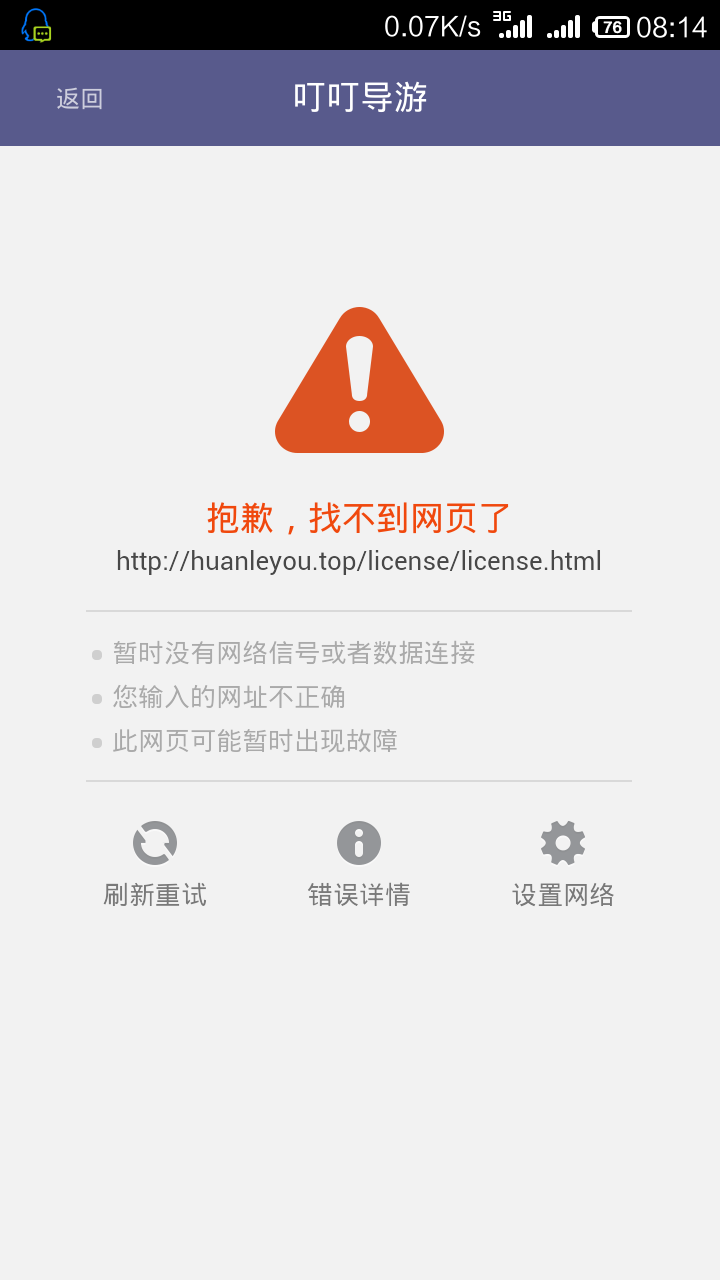imgbutton: (528, 810, 595, 875), (322, 817, 399, 872), (121, 807, 186, 872)
imgview: (195, 296, 528, 479)
textview: (82, 595, 639, 794)
